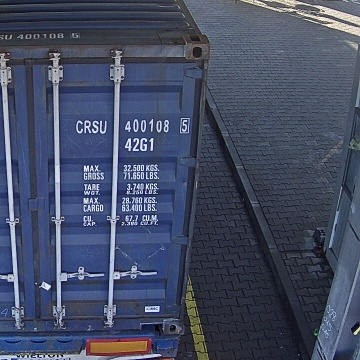serial_id: (75, 119, 187, 133)
